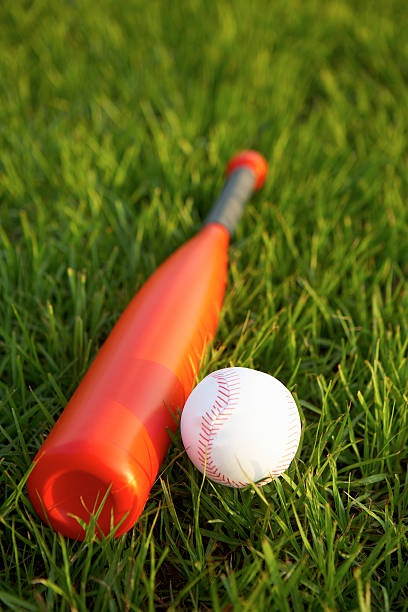bita: (29, 154, 274, 538)
